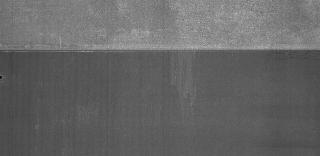welding line: (1, 44, 319, 60)
